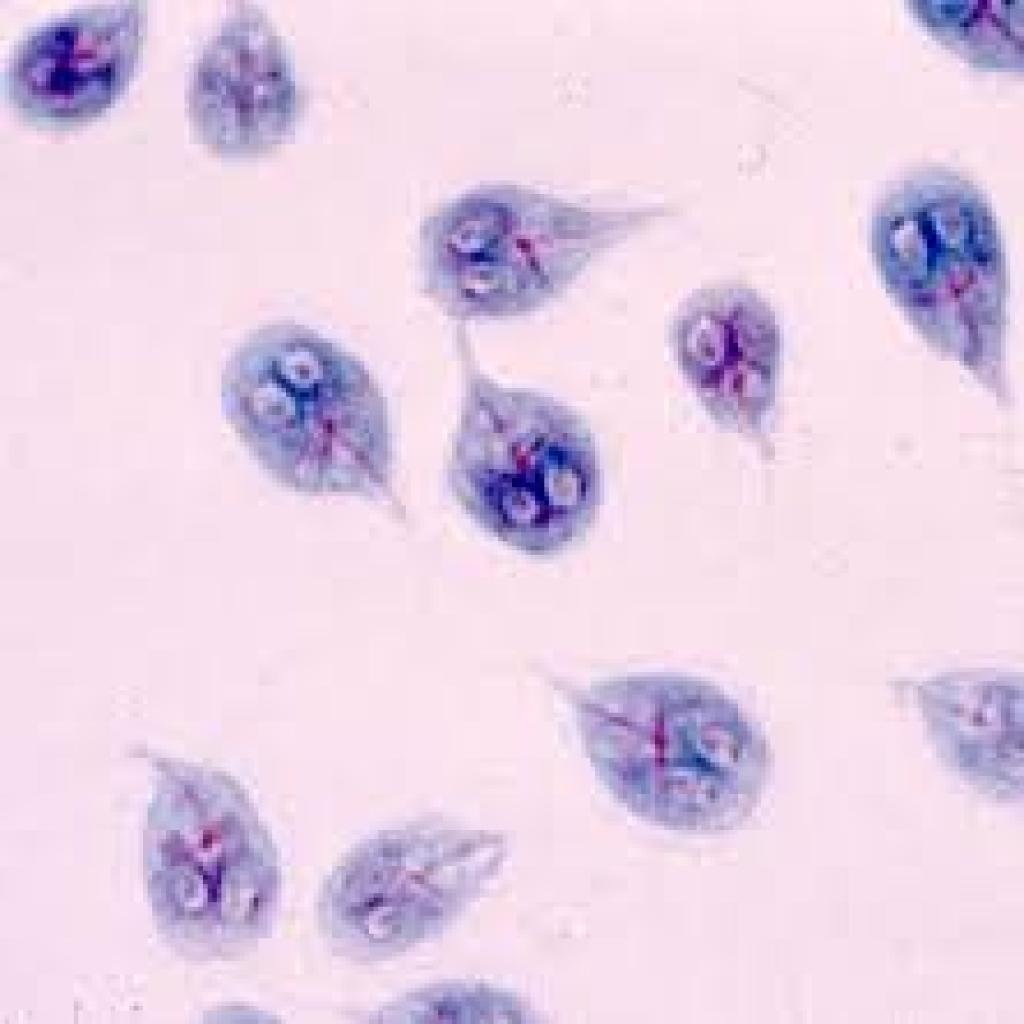Giardia: (531, 650, 784, 862), (212, 316, 424, 523), (858, 149, 1024, 410), (429, 320, 600, 560), (410, 176, 682, 325), (124, 740, 290, 961), (309, 812, 507, 961), (660, 284, 798, 474), (175, 0, 304, 162), (0, 0, 152, 135)
